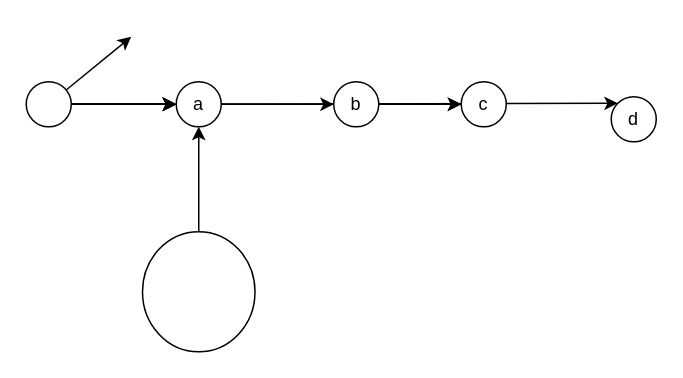
The diagram is 683 pixels wide and 378 high, and some of its shapes have lost their labels. The shapes that lost their labels are listed below. From the top down, each one's centre as x and y in pixels, then its label:
At (48,103): "dum".
At (198,291): "return".
